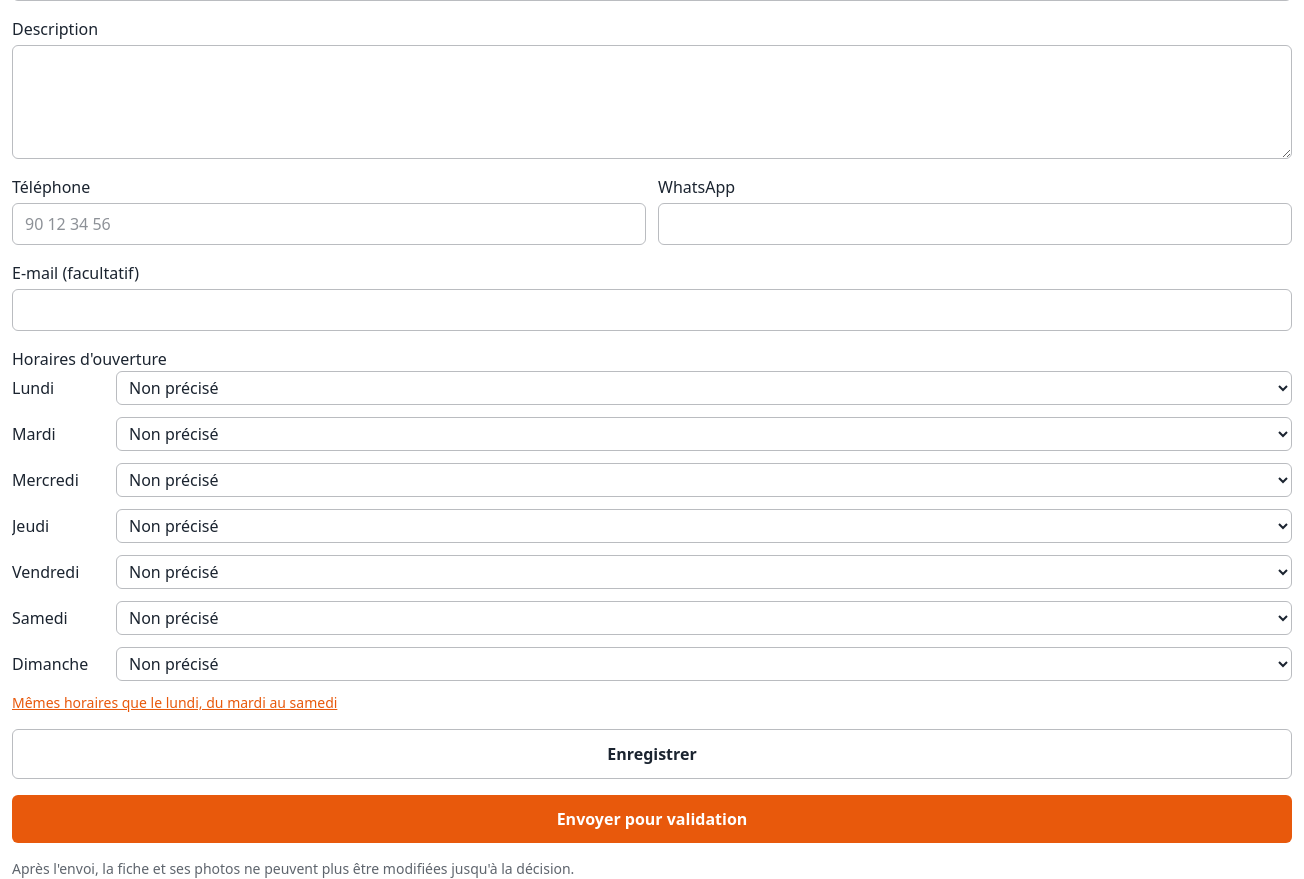
Test case: DetailsForm › shows what is missing next to each field
(page scrolled)
Click the button "Envoyer pour validation" at (652, 819), box [12,795,1292,843]
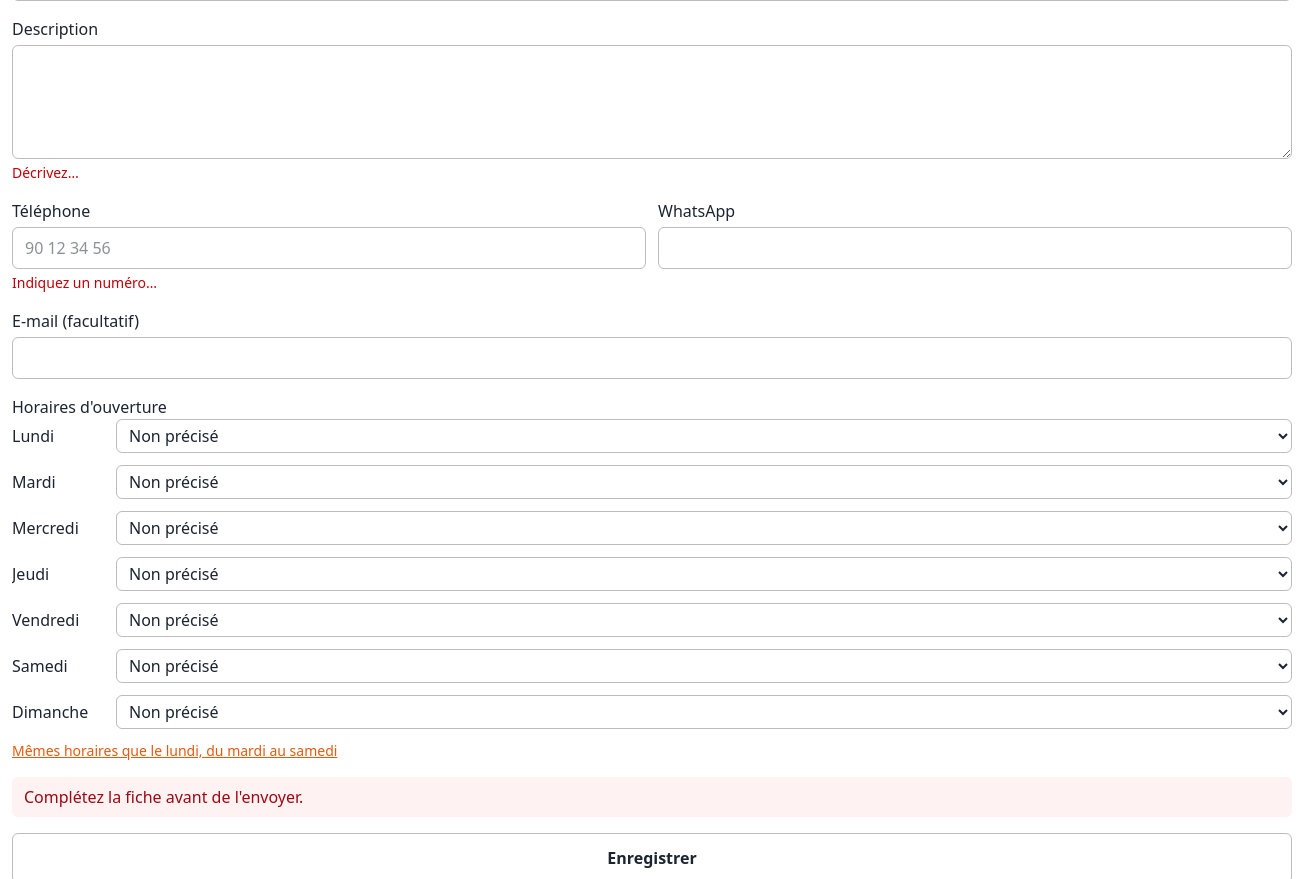
Result: the text "Décrivez…" is shown at [12,163,79,182]
Result: the text "Indiquez un numéro…" is shown at [12,273,157,292]
Result: the message shows "Complétez" at [24,786,303,808]
